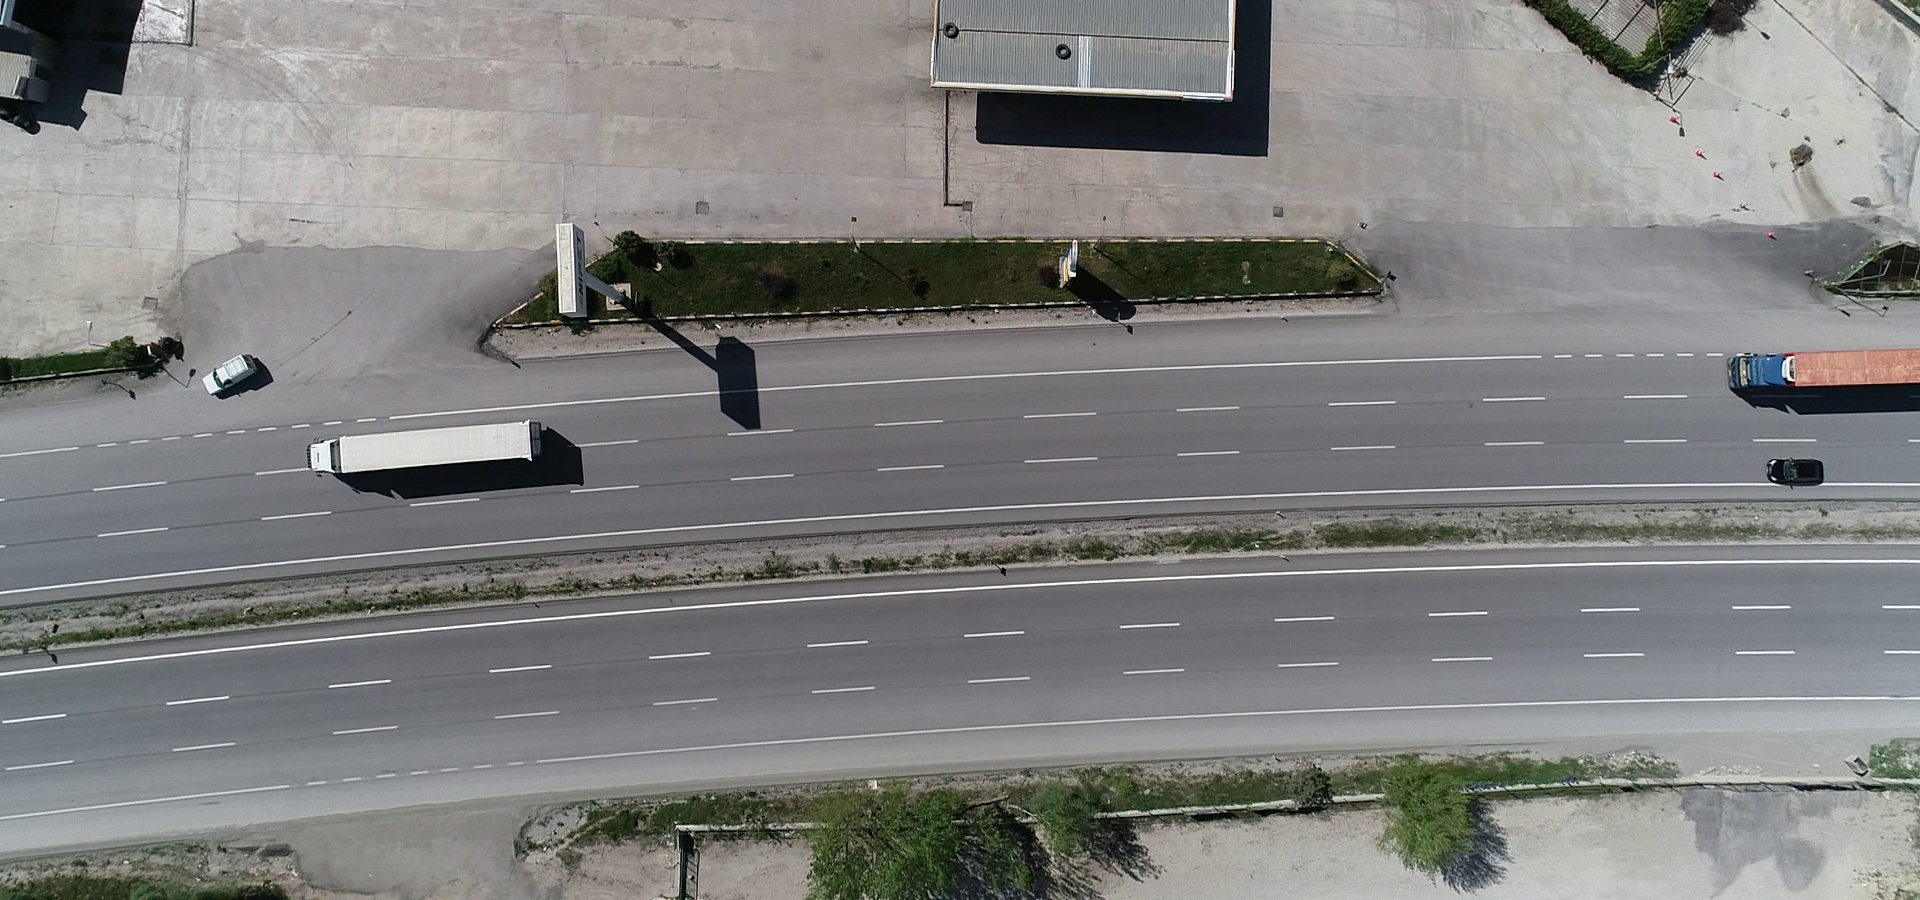arac: (305, 411, 546, 487), (1720, 342, 1920, 404), (198, 344, 267, 407), (1766, 451, 1837, 492)
